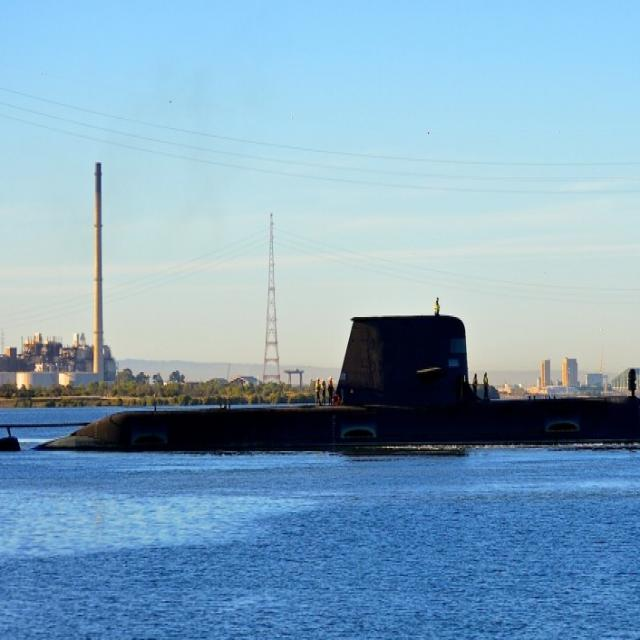submarine: (1, 302, 640, 454)
